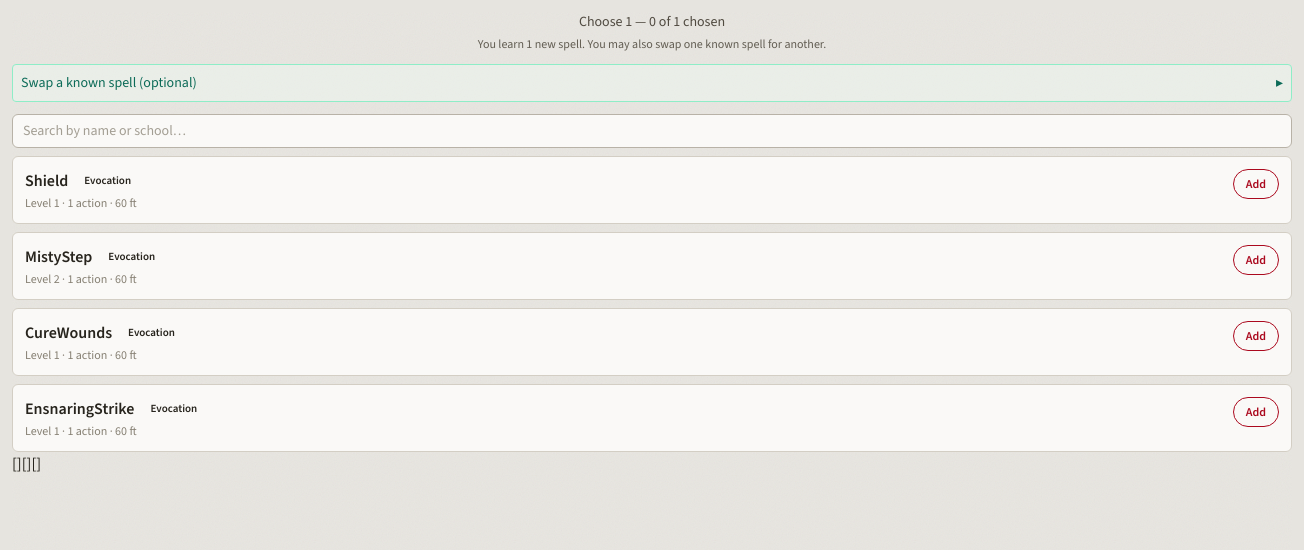
NewSpellsStep — swap selection (#1101) › deselecting the swap reverts the header and trims the over-cap learn
This screenshot has width=1304, height=550.
Click the button "Swap a known spell (optional) ▸" at (43, 82), box [21,73,1283,93]
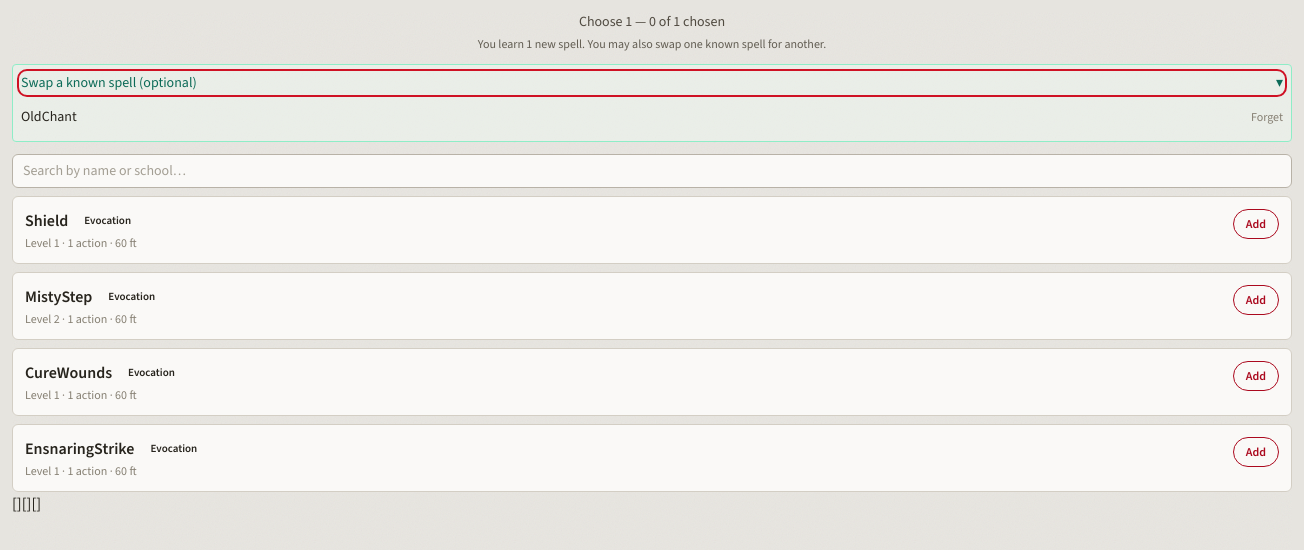
Click the button "OldChant Forget" at (49, 116), box [21,101,1283,133]
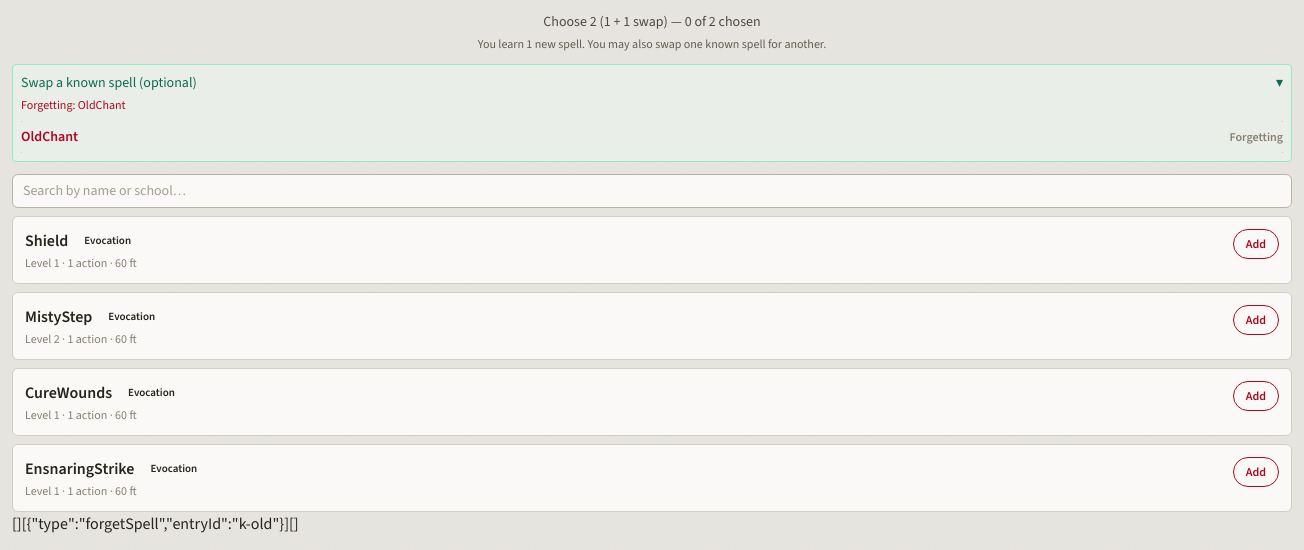
Click the button with aria-label "Add Shield" at (1256, 244), box [1233,229,1279,259]
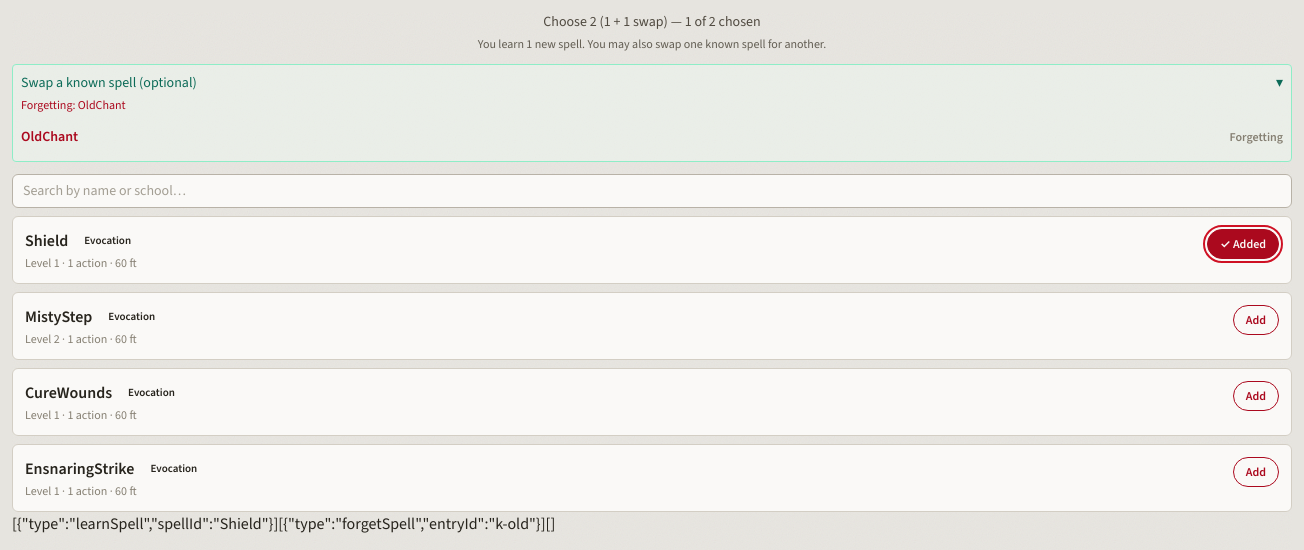
Click the button with aria-label "Add MistyStep" at (1256, 320), box [1233,305,1279,335]
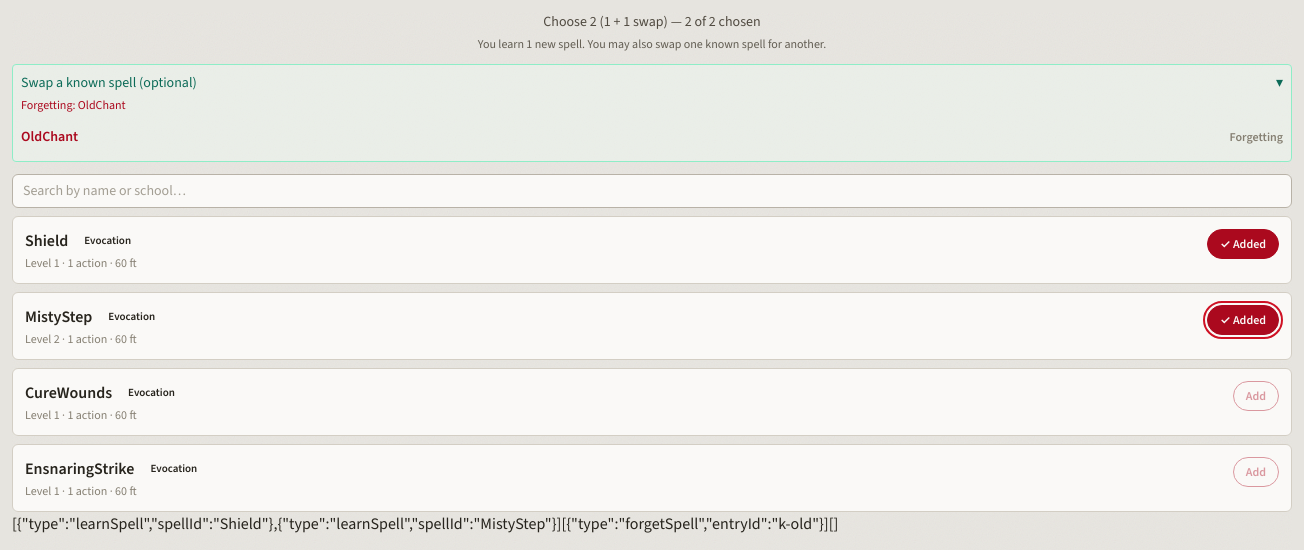
Click the button "OldChant Forgetting" at (50, 136), box [21,121,1283,153]
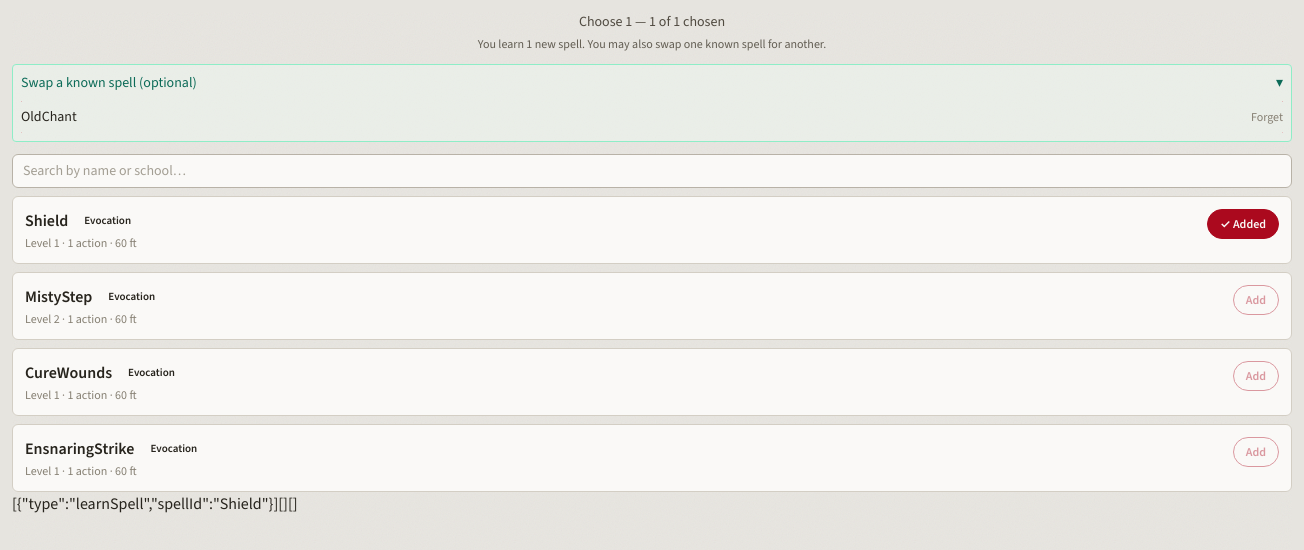
Expected: the text with test id "forgets" reads "[]", [278,493,288,514]
